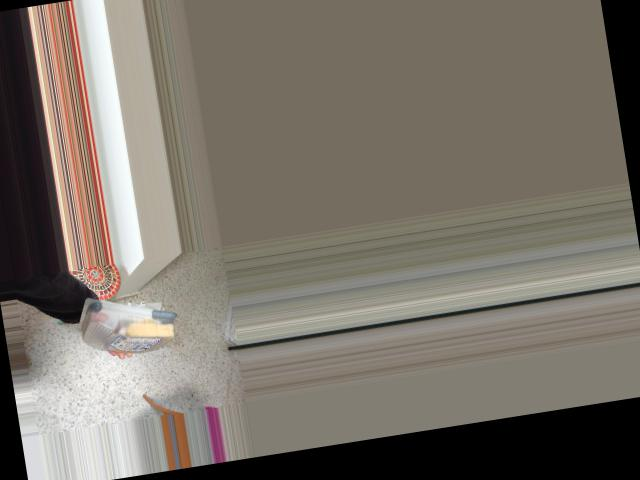cheese: (75, 277, 184, 361)
